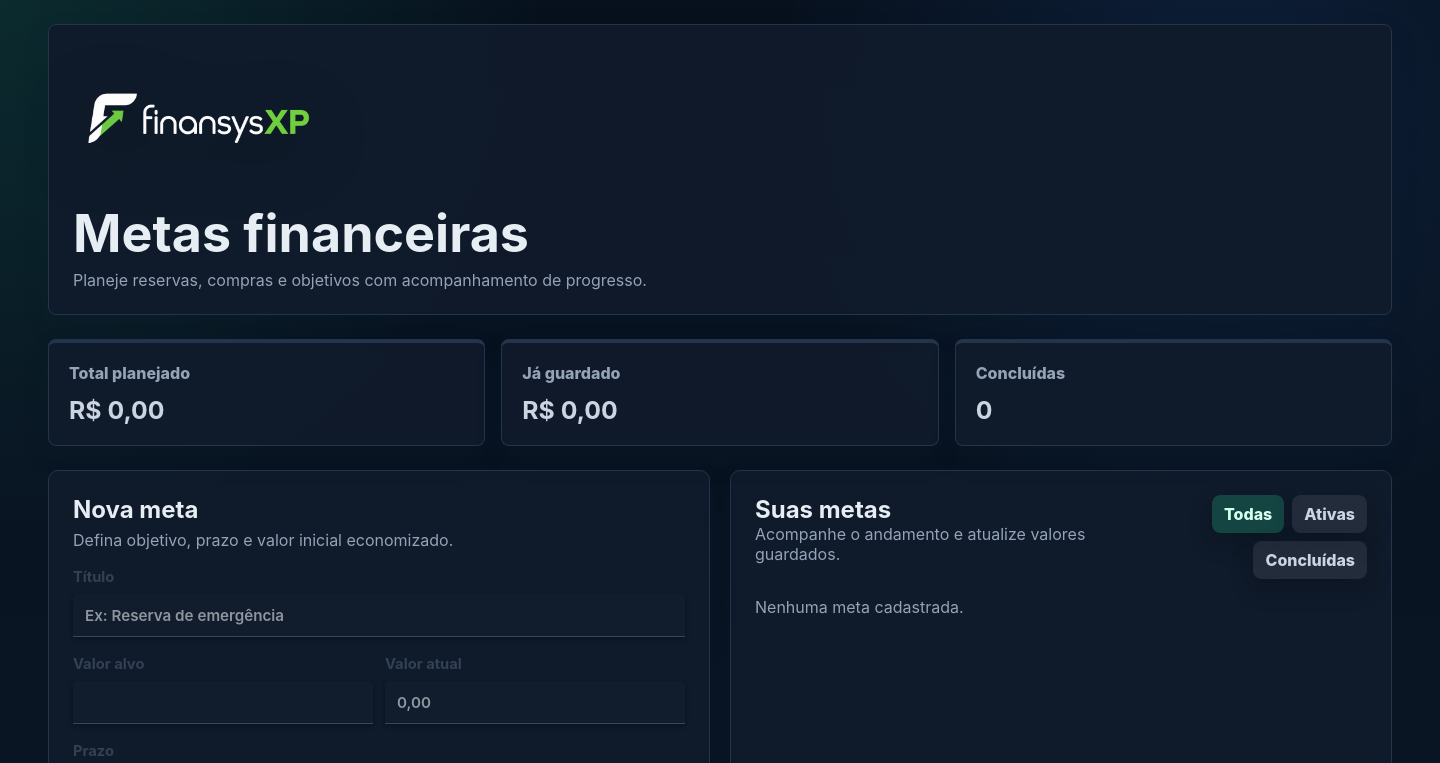
Test: Goals › cria uma nova meta e adiciona o card na tela
This screenshot has width=1440, height=763.
Type "Notebook" into the field labelled "Título" at (379, 615), box [73,594,685,637]
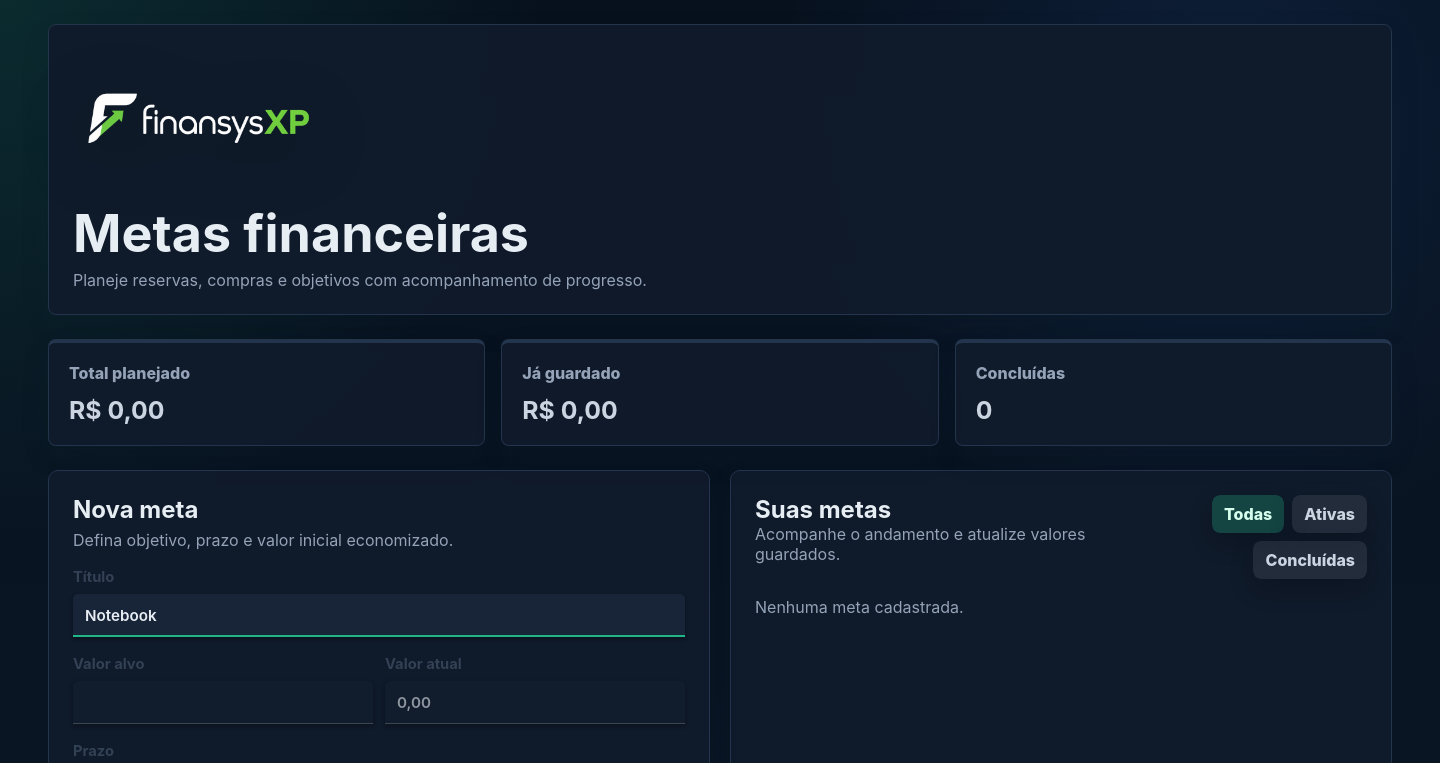
Type "4000" into the number field labelled "Valor alvo" at (223, 702), box [73,681,373,724]
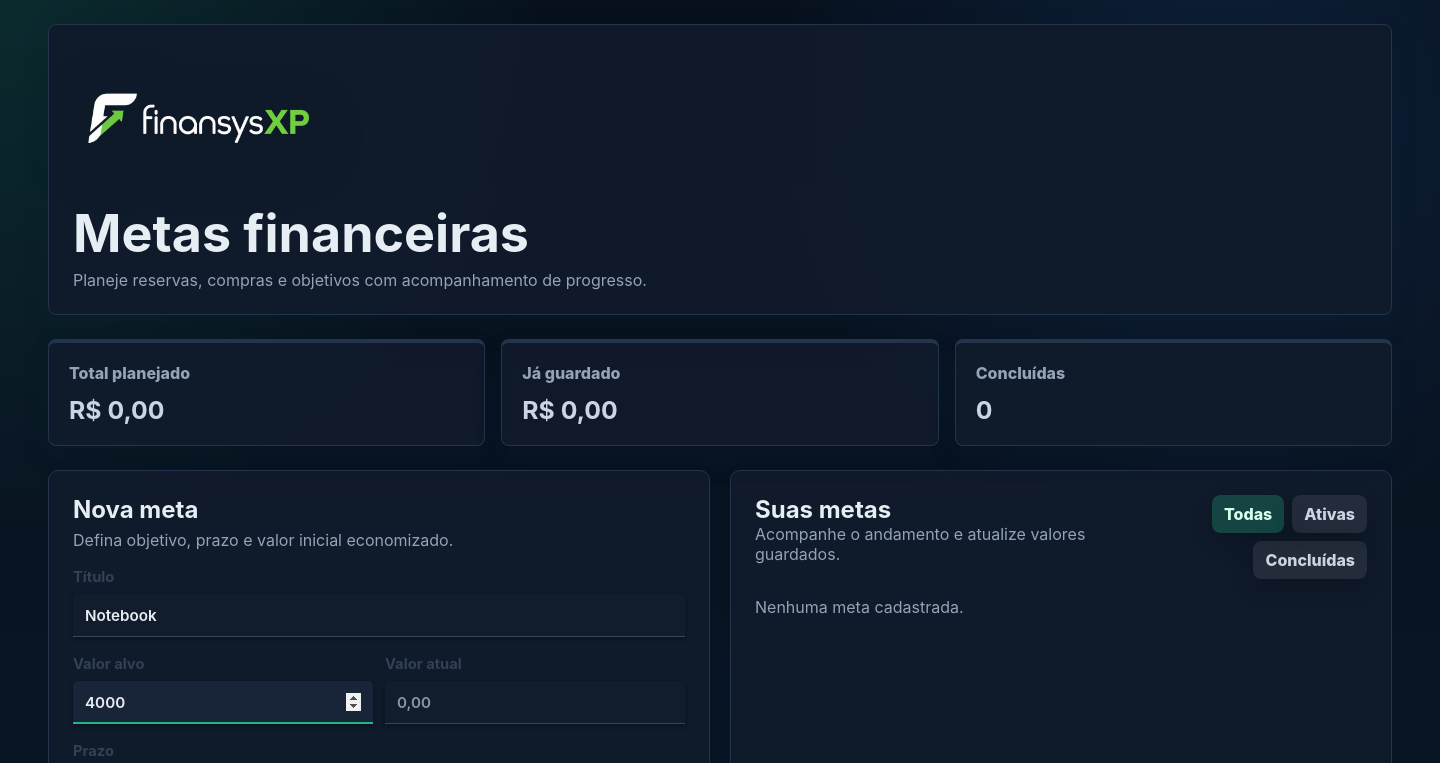
Type "1000" into the number field labelled "Valor atual" at (535, 702), box [385,681,685,724]
(page scrolled)
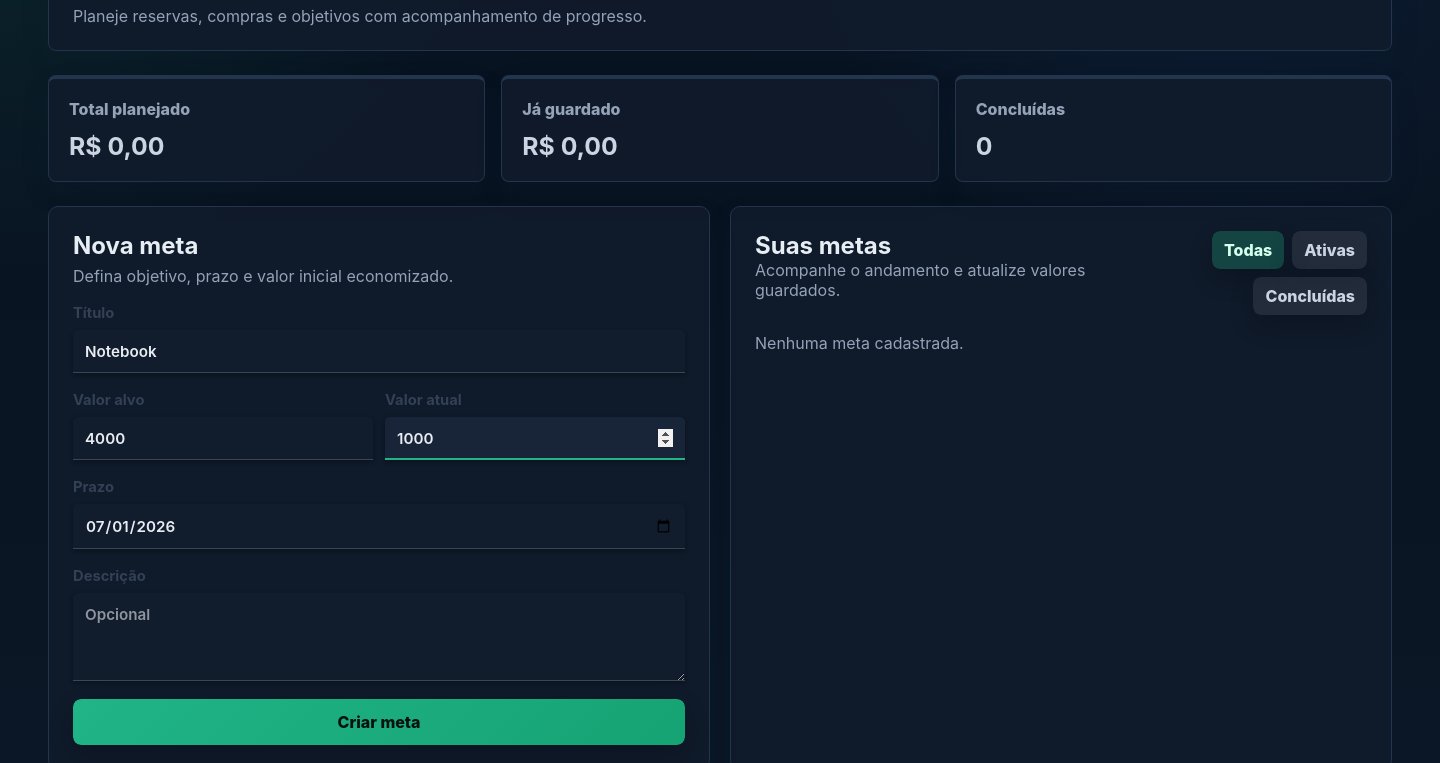
Type "2026-09-30" into the date field labelled "Prazo" at (379, 526), box [73,504,685,549]
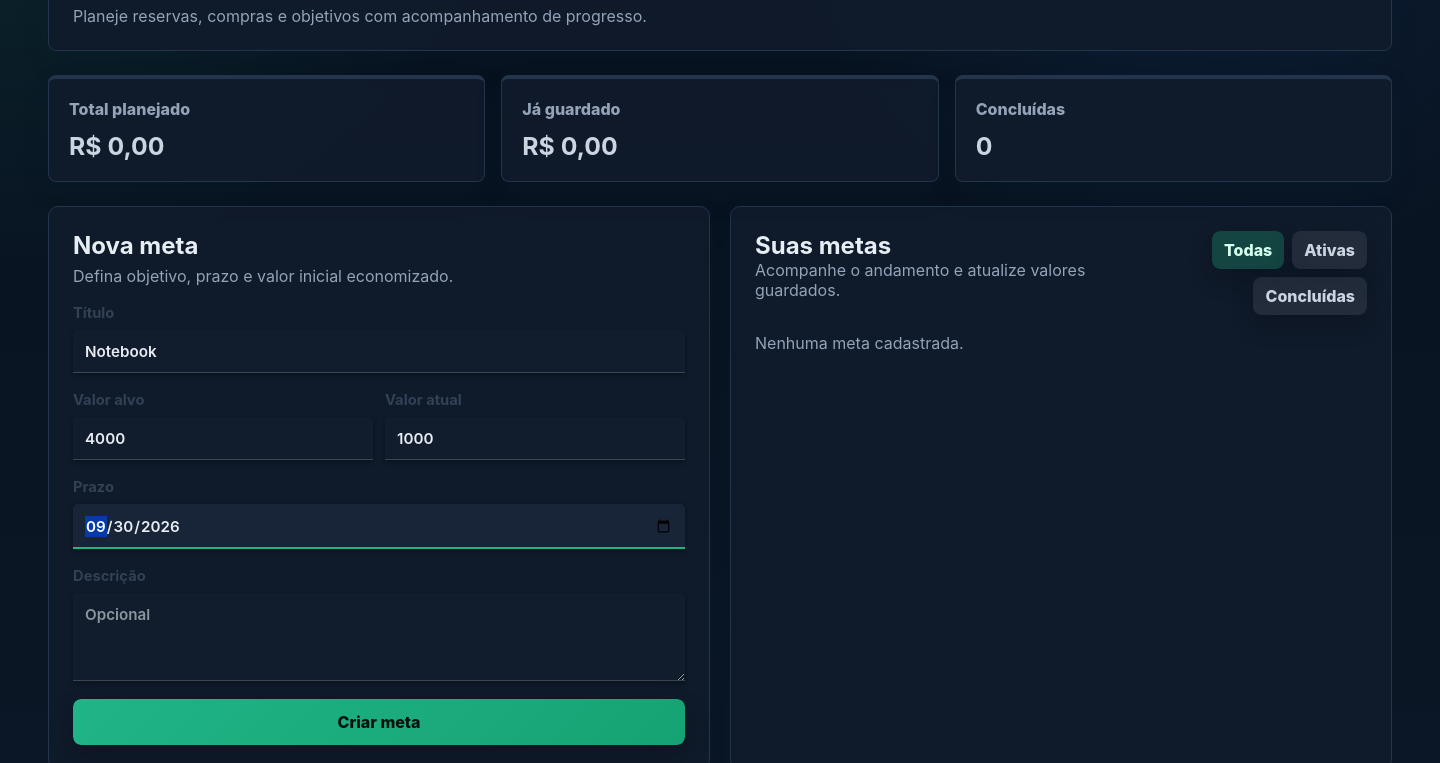
Click the button "Criar meta" at (379, 722), box [73,699,685,745]
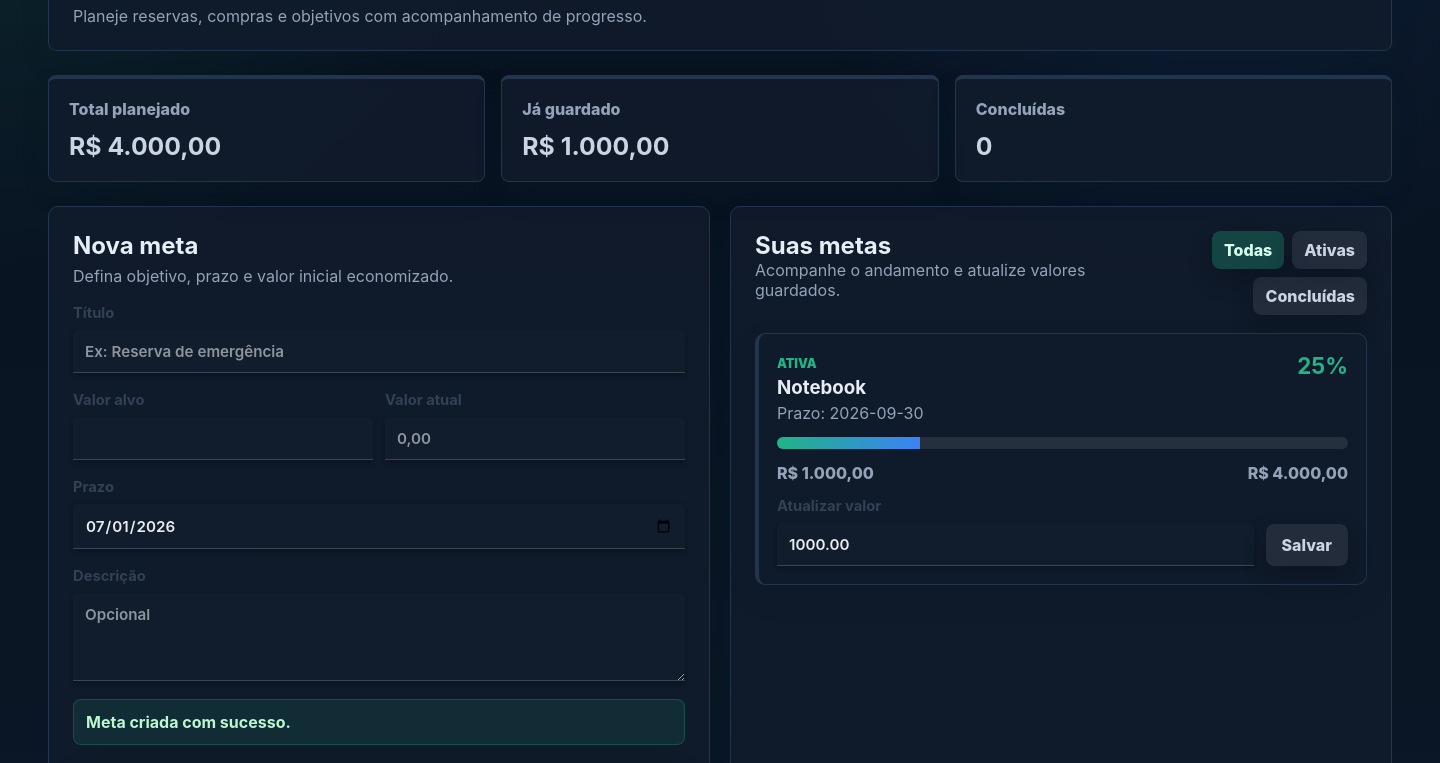
Now the heading "Notebook" is shown, box [777,376,866,399]
Now the text "25%" is shown, box [1297,352,1348,379]
